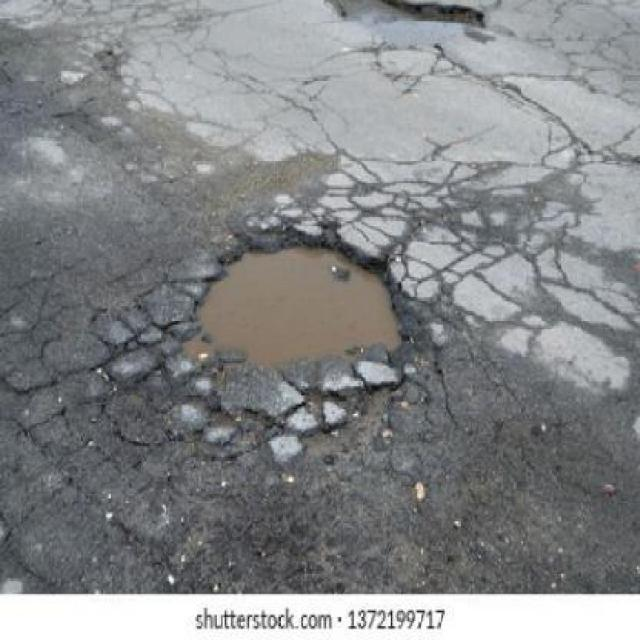Pothole: (168, 229, 410, 383), (320, 0, 492, 31)
